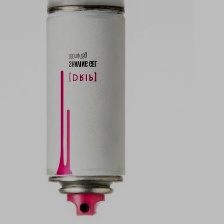aerosol_cans: (42, 2, 129, 219)
